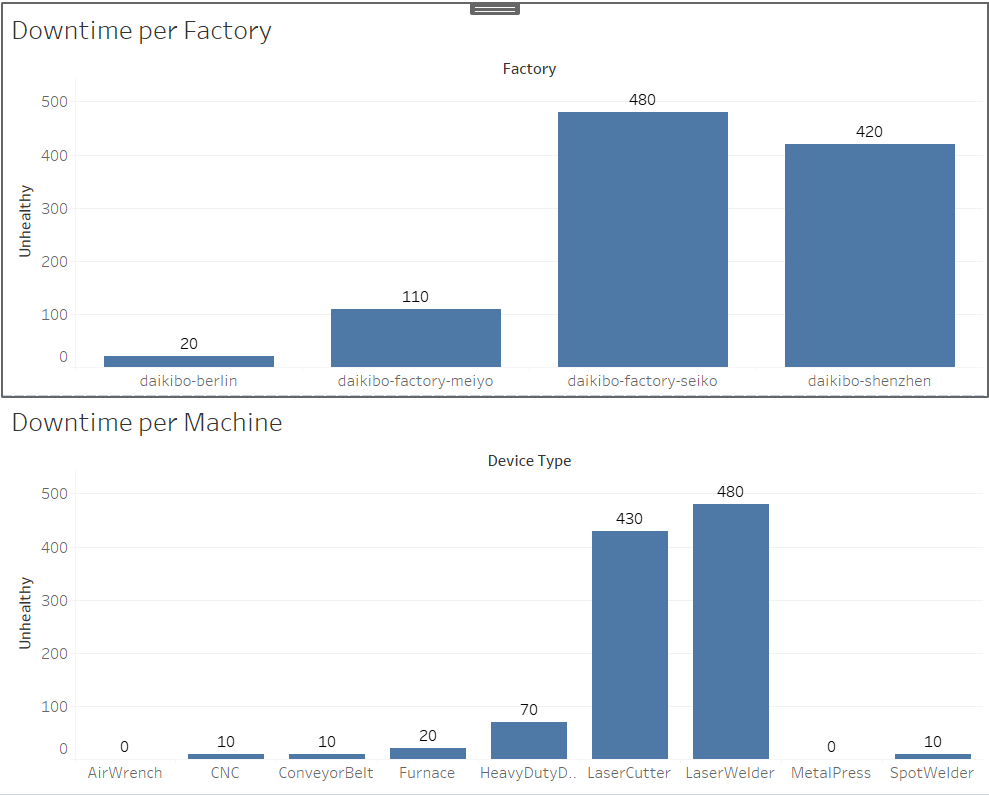

The page's visual inventory and layout, read from the dashboard file:
{"tool":"tableau","page":{"name":"Dashboard 1","canvas":[1000,800],"ordinal":0},"visuals":[{"type":"worksheet","title":"Downtime per Factory ","mark":"Automatic","rows":["Calculation_742812529554862080"],"cols":["factory"],"box":[8,8,984,392]},{"type":"worksheet","title":"Downtime per Machine","mark":"Automatic","rows":["Calculation_742812529554862080"],"cols":["deviceType"],"box":[8,400,984,392]}]}

Visuals, with their boxes in screenshot pixels (x1, y1, x2, y2), scaled from the page's 1000x800 canvas onto the 989x795 screenshot:
"Downtime per Factory " worksheet: 8, 8, 981, 398
"Downtime per Machine" worksheet: 8, 398, 981, 787
